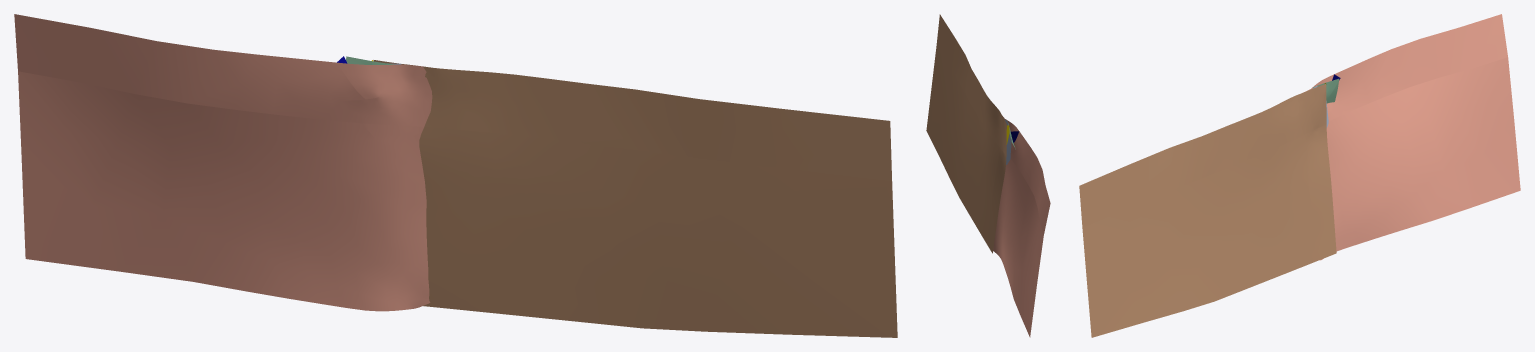
File: NIF_LB_Oct27_deep_splay.glb
3 renders of one model, left to right at view 1: azimuth 30°, elevation 25°; view 2: azimuth 150°, elevation 25°; view 3: azimuth 270°, elevation 25°, orthographic. The views are drawn at different scales.
Visible parts, largest first — view 1: Surface Skin (×2); view 2: Surface Skin (×3); view 3: Surface Skin (×2).
Boxes of the visible parts, x1,y1,x2,y2 form: Surface Skin (×2): [14, 14, 897, 337]; Surface Skin (×3): [926, 14, 1050, 337]; Surface Skin (×2): [1079, 14, 1520, 337].
Size of the model in its own units: 35104 by 15572 by 36964.
